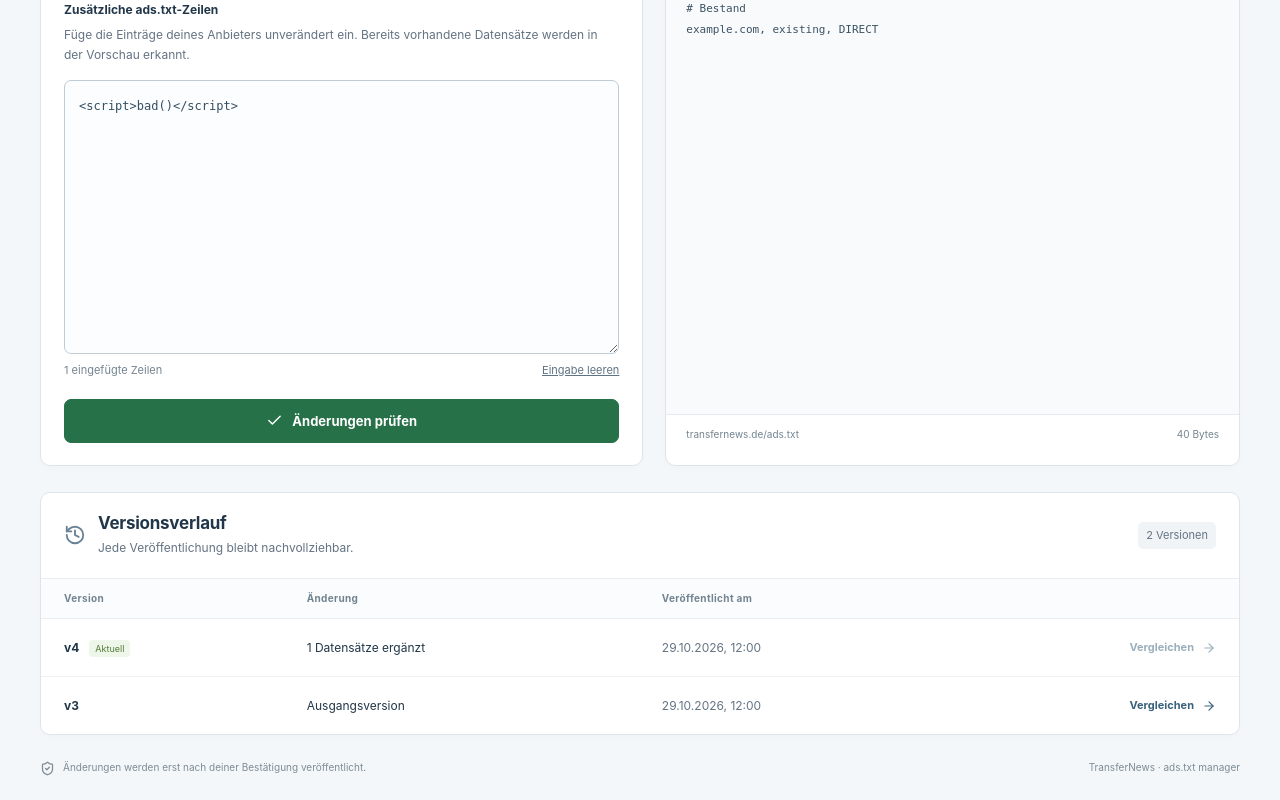
Test: invalid rows are explained without enabling publication or interpreting pasted HTML
(page scrolled)
Step 1. Click the button "Änderungen prüfen" → (342, 421), box x1=64 y1=399 x2=619 y2=443
(page scrolled)
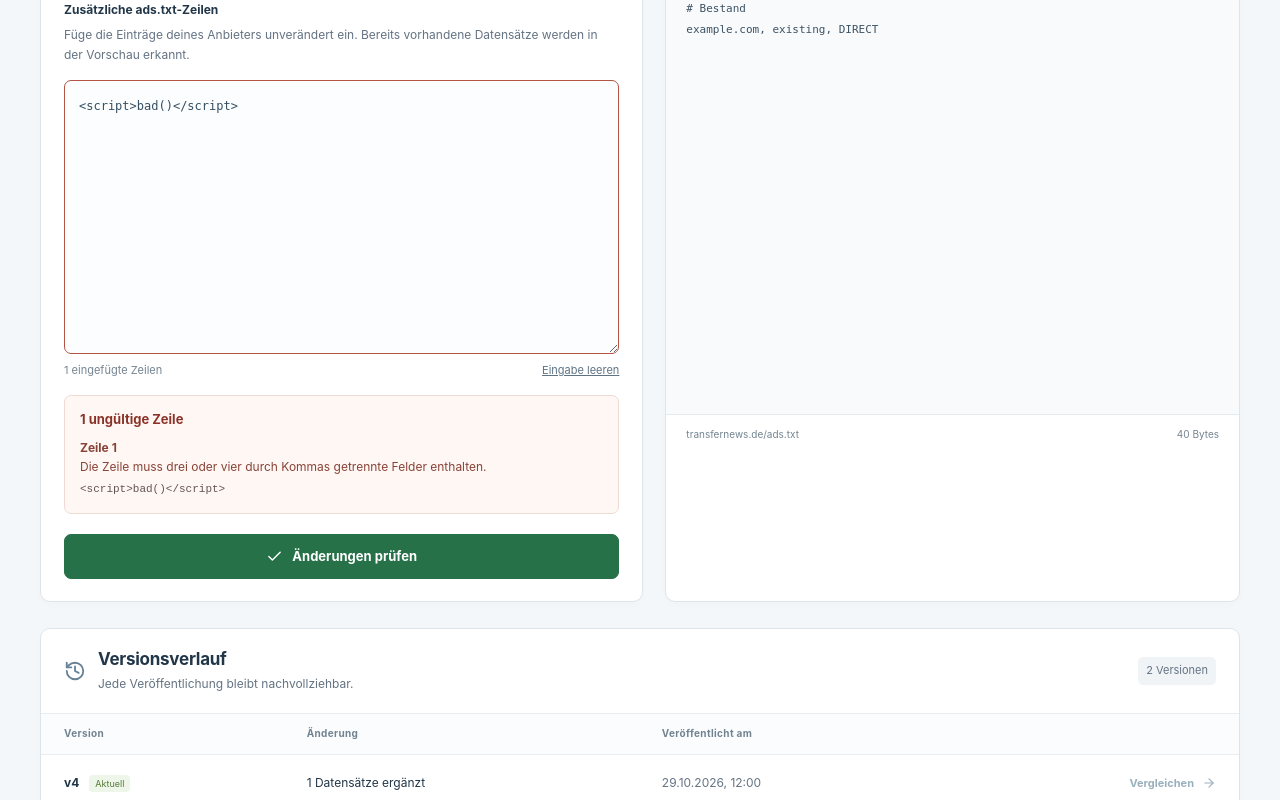
Expected: the text "drei oder vier durch Kommas getrennte Felder" is shown, x1=80 y1=459 x2=487 y2=474
